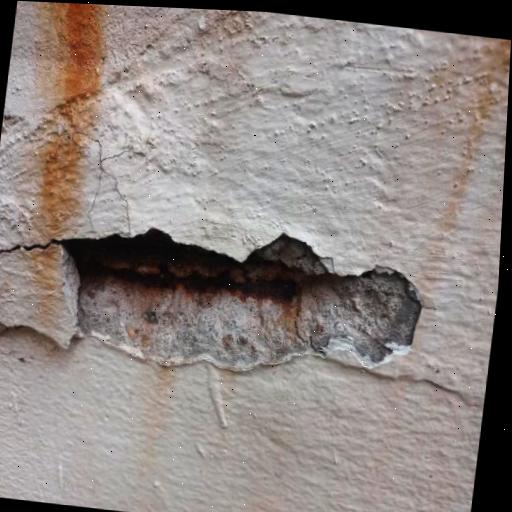exposed_rebar: (82, 258, 298, 302)
spalling: (65, 229, 421, 370)
